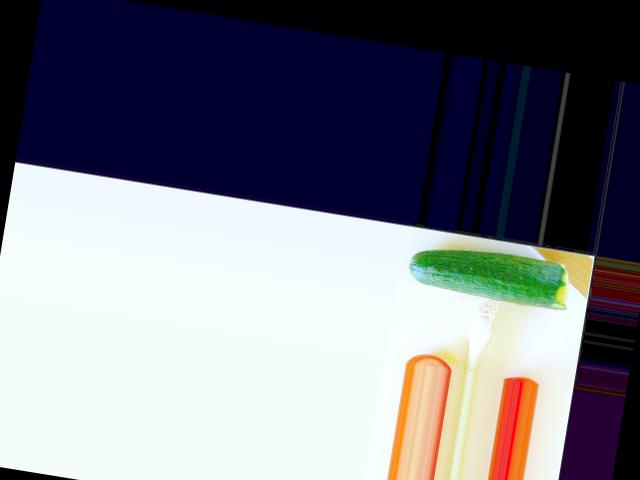cucumber: (404, 237, 573, 310)
